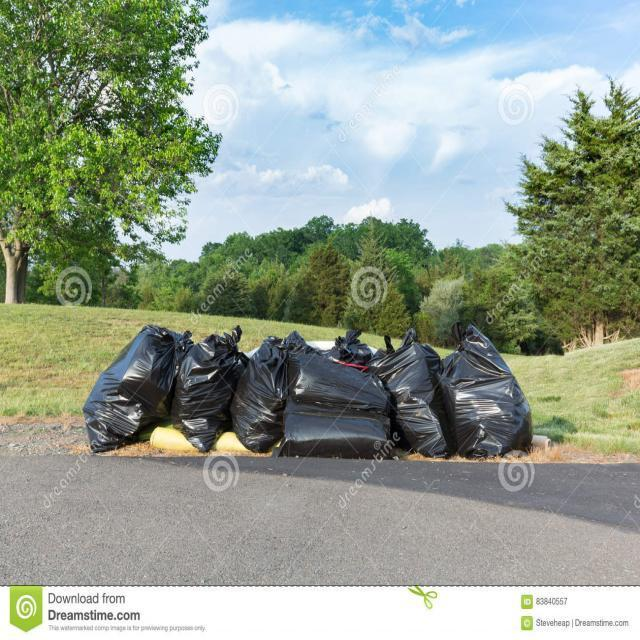high trash: (84, 325, 531, 458)
